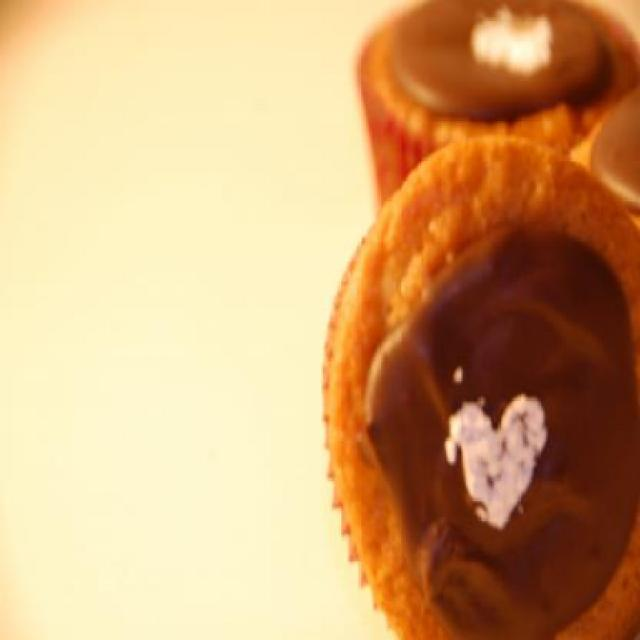Muffin: (320, 134, 638, 638), (357, 0, 639, 215), (570, 83, 639, 225)
